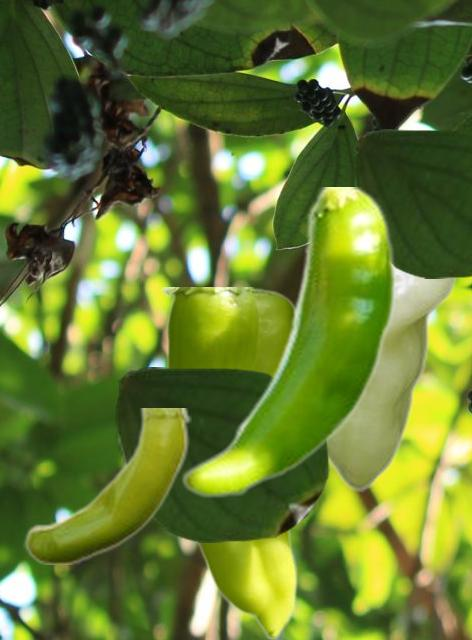green_chili: (180, 187, 396, 498), (160, 287, 297, 637), (328, 270, 456, 490), (23, 408, 190, 563)
